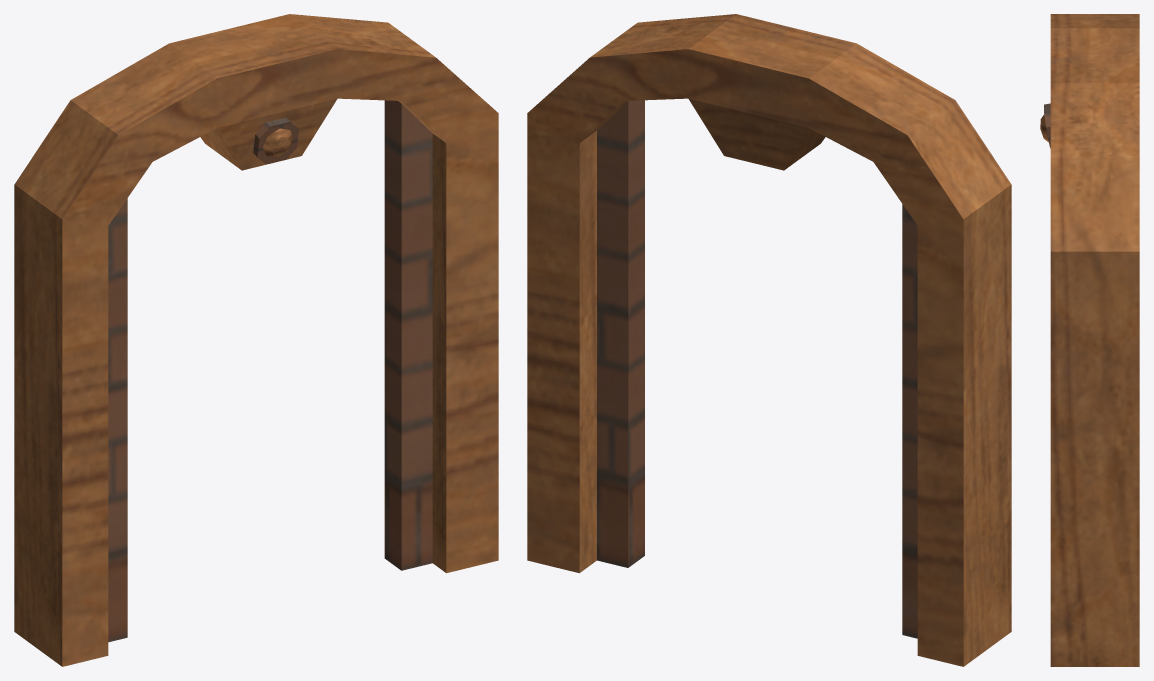
The model's file is InteriorDoor.glb.
3 views of the same model, side by side, from view 1: azimuth 30°, elevation 25°; view 2: azimuth 150°, elevation 25°; view 3: azimuth 270°, elevation 25° (orthographic). The views are drawn at different scales.
Visible parts, largest first — view 1: InteriorDoor; view 2: InteriorDoor; view 3: InteriorDoor.
Part boxes in pixels (x1,y1,x2,y2): InteriorDoor: (14,14,498,666); InteriorDoor: (527,14,1011,666); InteriorDoor: (1040,14,1139,666).
Bounding box in the file's own units: 5.24 × 6.33 × 1.11.
1 material, 1 textured.
